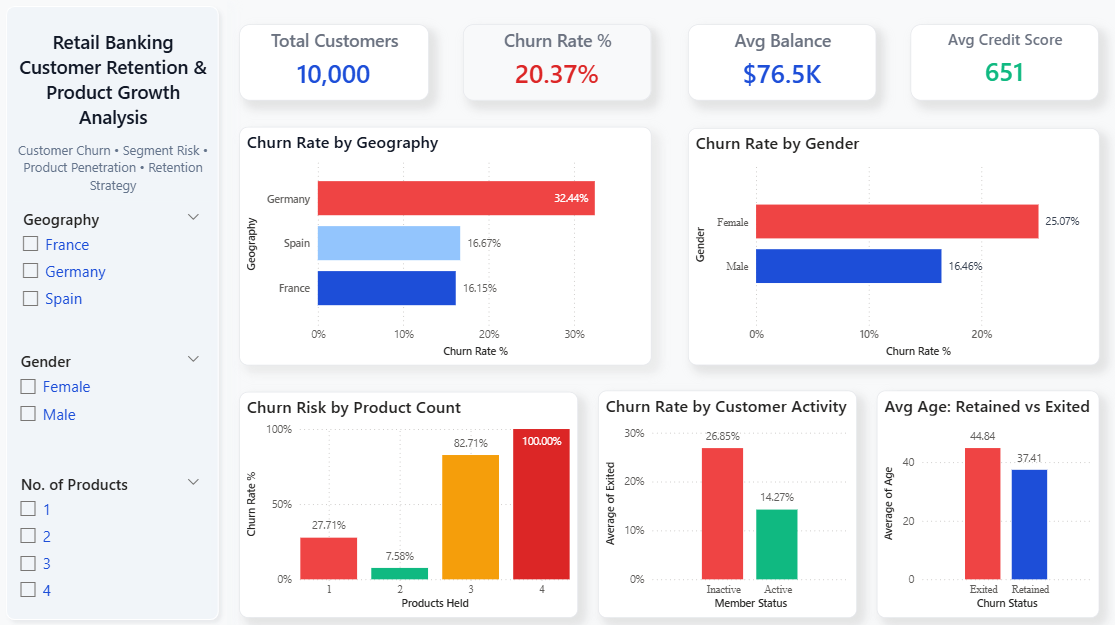

The page's visual inventory and layout, read from the dashboard file:
{"tool":"powerbi","page":{"name":"Page 1","canvas":[1280,720],"ordinal":0},"visuals":[{"type":"shape","box":[0,0,261.4,720],"z":0},{"type":"card","title":"Total Customers","fields":{"Values":["Bank_Churn.Total Customers"]},"box":[276.4,30.6,216.4,86.8],"z":1000},{"type":"card","title":"Churn Rate %","fields":{"Values":["Bank_Churn.Churn Rate %"]},"box":[531.9,30.6,215.2,86.8],"z":2000},{"type":"card","title":"Avg Balance","fields":{"Values":["Avg(Bank_Churn.Balance)"]},"box":[788.7,30.6,215.2,86.8],"z":3000},{"type":"clusteredBarChart","title":"Churn Rate by Geography","fields":{"Category":["Bank_Churn.Geography"],"Y":["Avg(Bank_Churn.Exited)"]},"box":[275.7,147.1,471.4,272.9],"z":4000},{"type":"barChart","title":"Churn Rate by Gender","fields":{"Y":["Avg(Bank_Churn.Exited)"],"Category":["Bank_Churn.Gender"]},"box":[788.6,148.6,470,271.4],"z":5000},{"type":"clusteredColumnChart","title":"Churn Risk by Product Count","fields":{"Category":["Bank_Churn.NumOfProducts"],"Y":["Avg(Bank_Churn.Exited)"]},"box":[275.7,450,387.1,258.6],"z":6000},{"type":"columnChart","title":"Churn Rate by Customer Activity","fields":{"Y":["Avg(Bank_Churn.Exited)"],"Category":["Bank_Churn.Member Status"]},"box":[685.7,448.6,295.7,260],"z":7000},{"type":"columnChart","title":"Avg Age: Retained vs Exited","fields":{"Category":["Bank_Churn.Churn Status"],"Y":["Avg(Bank_Churn.Age)"]},"box":[1004.3,448.6,254.3,260],"z":8000},{"type":"slicer","title":"Revenue by State","fields":{"Values":["Bank_Churn.Geography"]},"box":[15.7,235.7,227.1,130],"z":9000},{"type":"slicer","title":"Revenue by State","fields":{"Values":["Bank_Churn.Gender"]},"box":[12.9,398.6,230,102.9],"z":10000},{"type":"slicer","title":"Revenue by State","fields":{"Values":["Bank_Churn.NumOfProducts"]},"box":[12.9,538.6,230,168.6],"z":11000},{"type":"textbox","box":[12.9,30,237.1,137.1],"z":12000},{"type":"textbox","box":[17.1,158.6,228.6,74.3],"z":13000},{"type":"card","title":"Avg Credit Score","fields":{"Values":["Avg(Bank_Churn.CreditScore)"]},"box":[1042.5,30,215,87.5],"z":14000}]}

Visuals, with their boxes in screenshot pixels (x1, y1, x2, y2), scaled from the page's 1280x720 canvas onto the 1115x625 screenshot:
shape: 0,0,228,624
"Total Customers" card: 241,27,429,102
"Churn Rate %" card: 463,27,651,102
"Avg Balance" card: 687,27,874,102
"Churn Rate by Geography" clusteredBarChart: 240,128,651,365
"Churn Rate by Gender" barChart: 687,129,1096,365
"Churn Risk by Product Count" clusteredColumnChart: 240,391,577,615
"Churn Rate by Customer Activity" columnChart: 597,389,855,615
"Avg Age: Retained vs Exited" columnChart: 875,389,1096,615
"Revenue by State" slicer: 14,205,212,317
"Revenue by State" slicer: 11,346,212,435
"Revenue by State" slicer: 11,468,212,614
textbox: 11,26,218,145
textbox: 15,138,214,202
"Avg Credit Score" card: 908,26,1095,102
